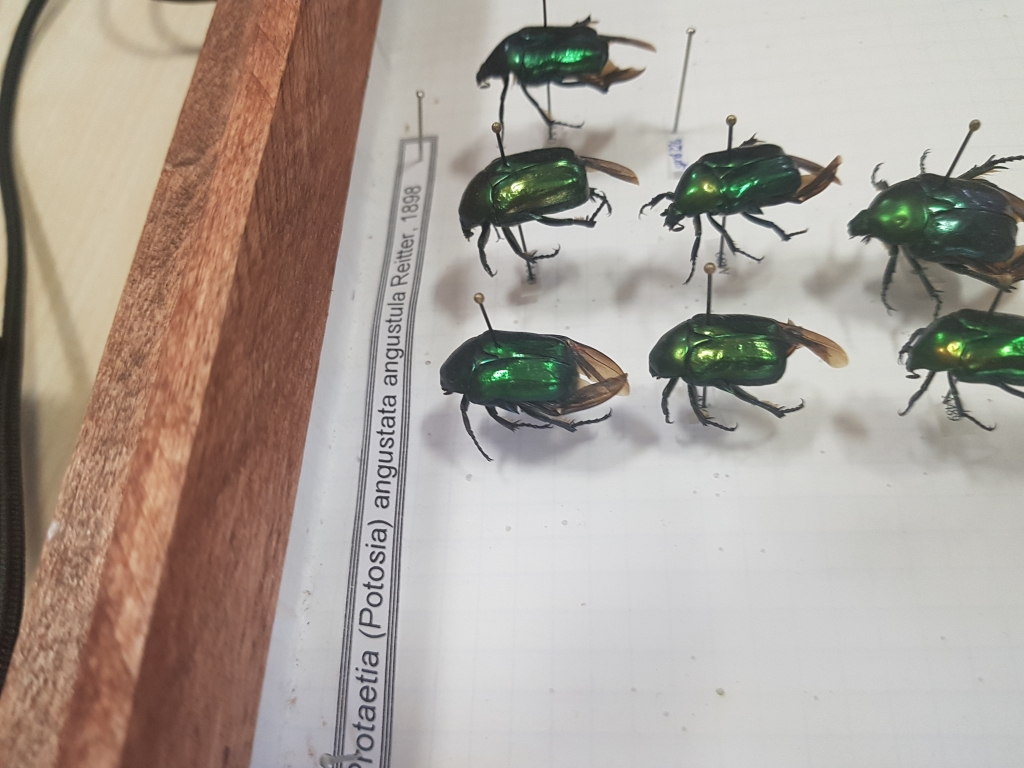Protaetia_angustata_angustata: (639, 130, 856, 275), (638, 298, 848, 439), (438, 313, 634, 455), (449, 139, 639, 272)
